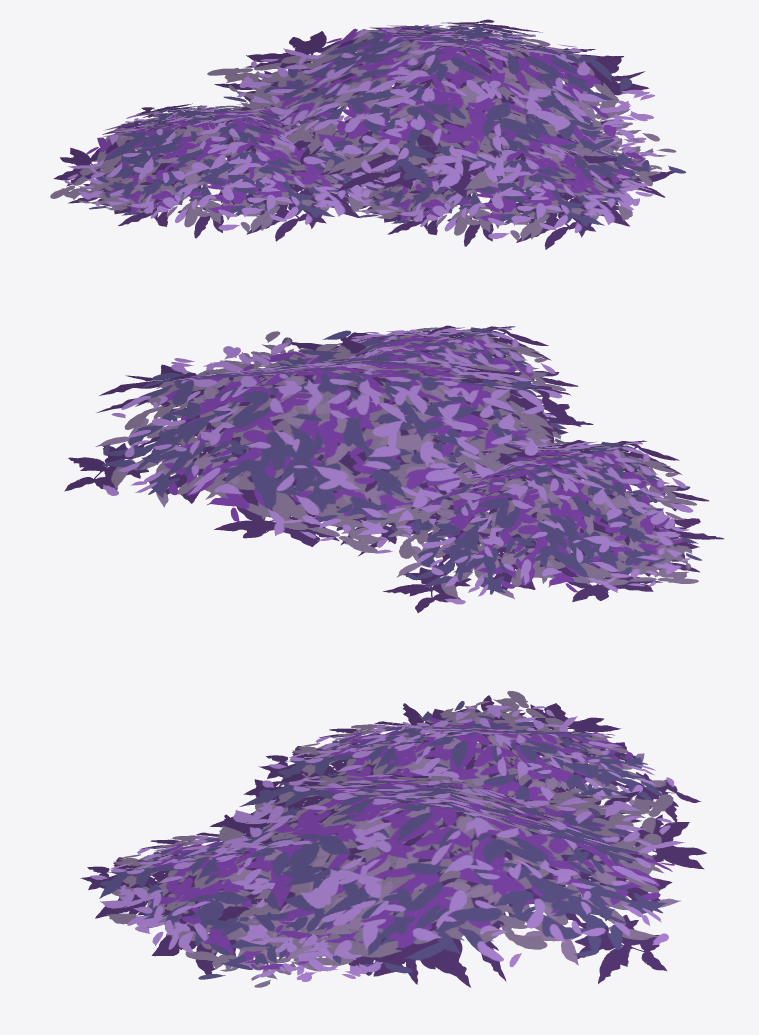
Rendered from purple_bush.fbx.
The picture shows the model from 3 angles, top to bottom: view 1: azimuth 30°, elevation 25°; view 2: azimuth 150°, elevation 25°; view 3: azimuth 270°, elevation 25°; orthographic projection. The views are drawn at different scales.
Visible parts, largest first — view 1: pPlane120; view 2: pPlane120; view 3: pPlane120.
Part boxes in pixels (<box>): pPlane120: <box>50,19,685,249</box>; pPlane120: <box>64,325,723,612</box>; pPlane120: <box>80,691,706,987</box>.
Bounding box in the file's own units: 1.63 × 0.2562 × 1.43.
